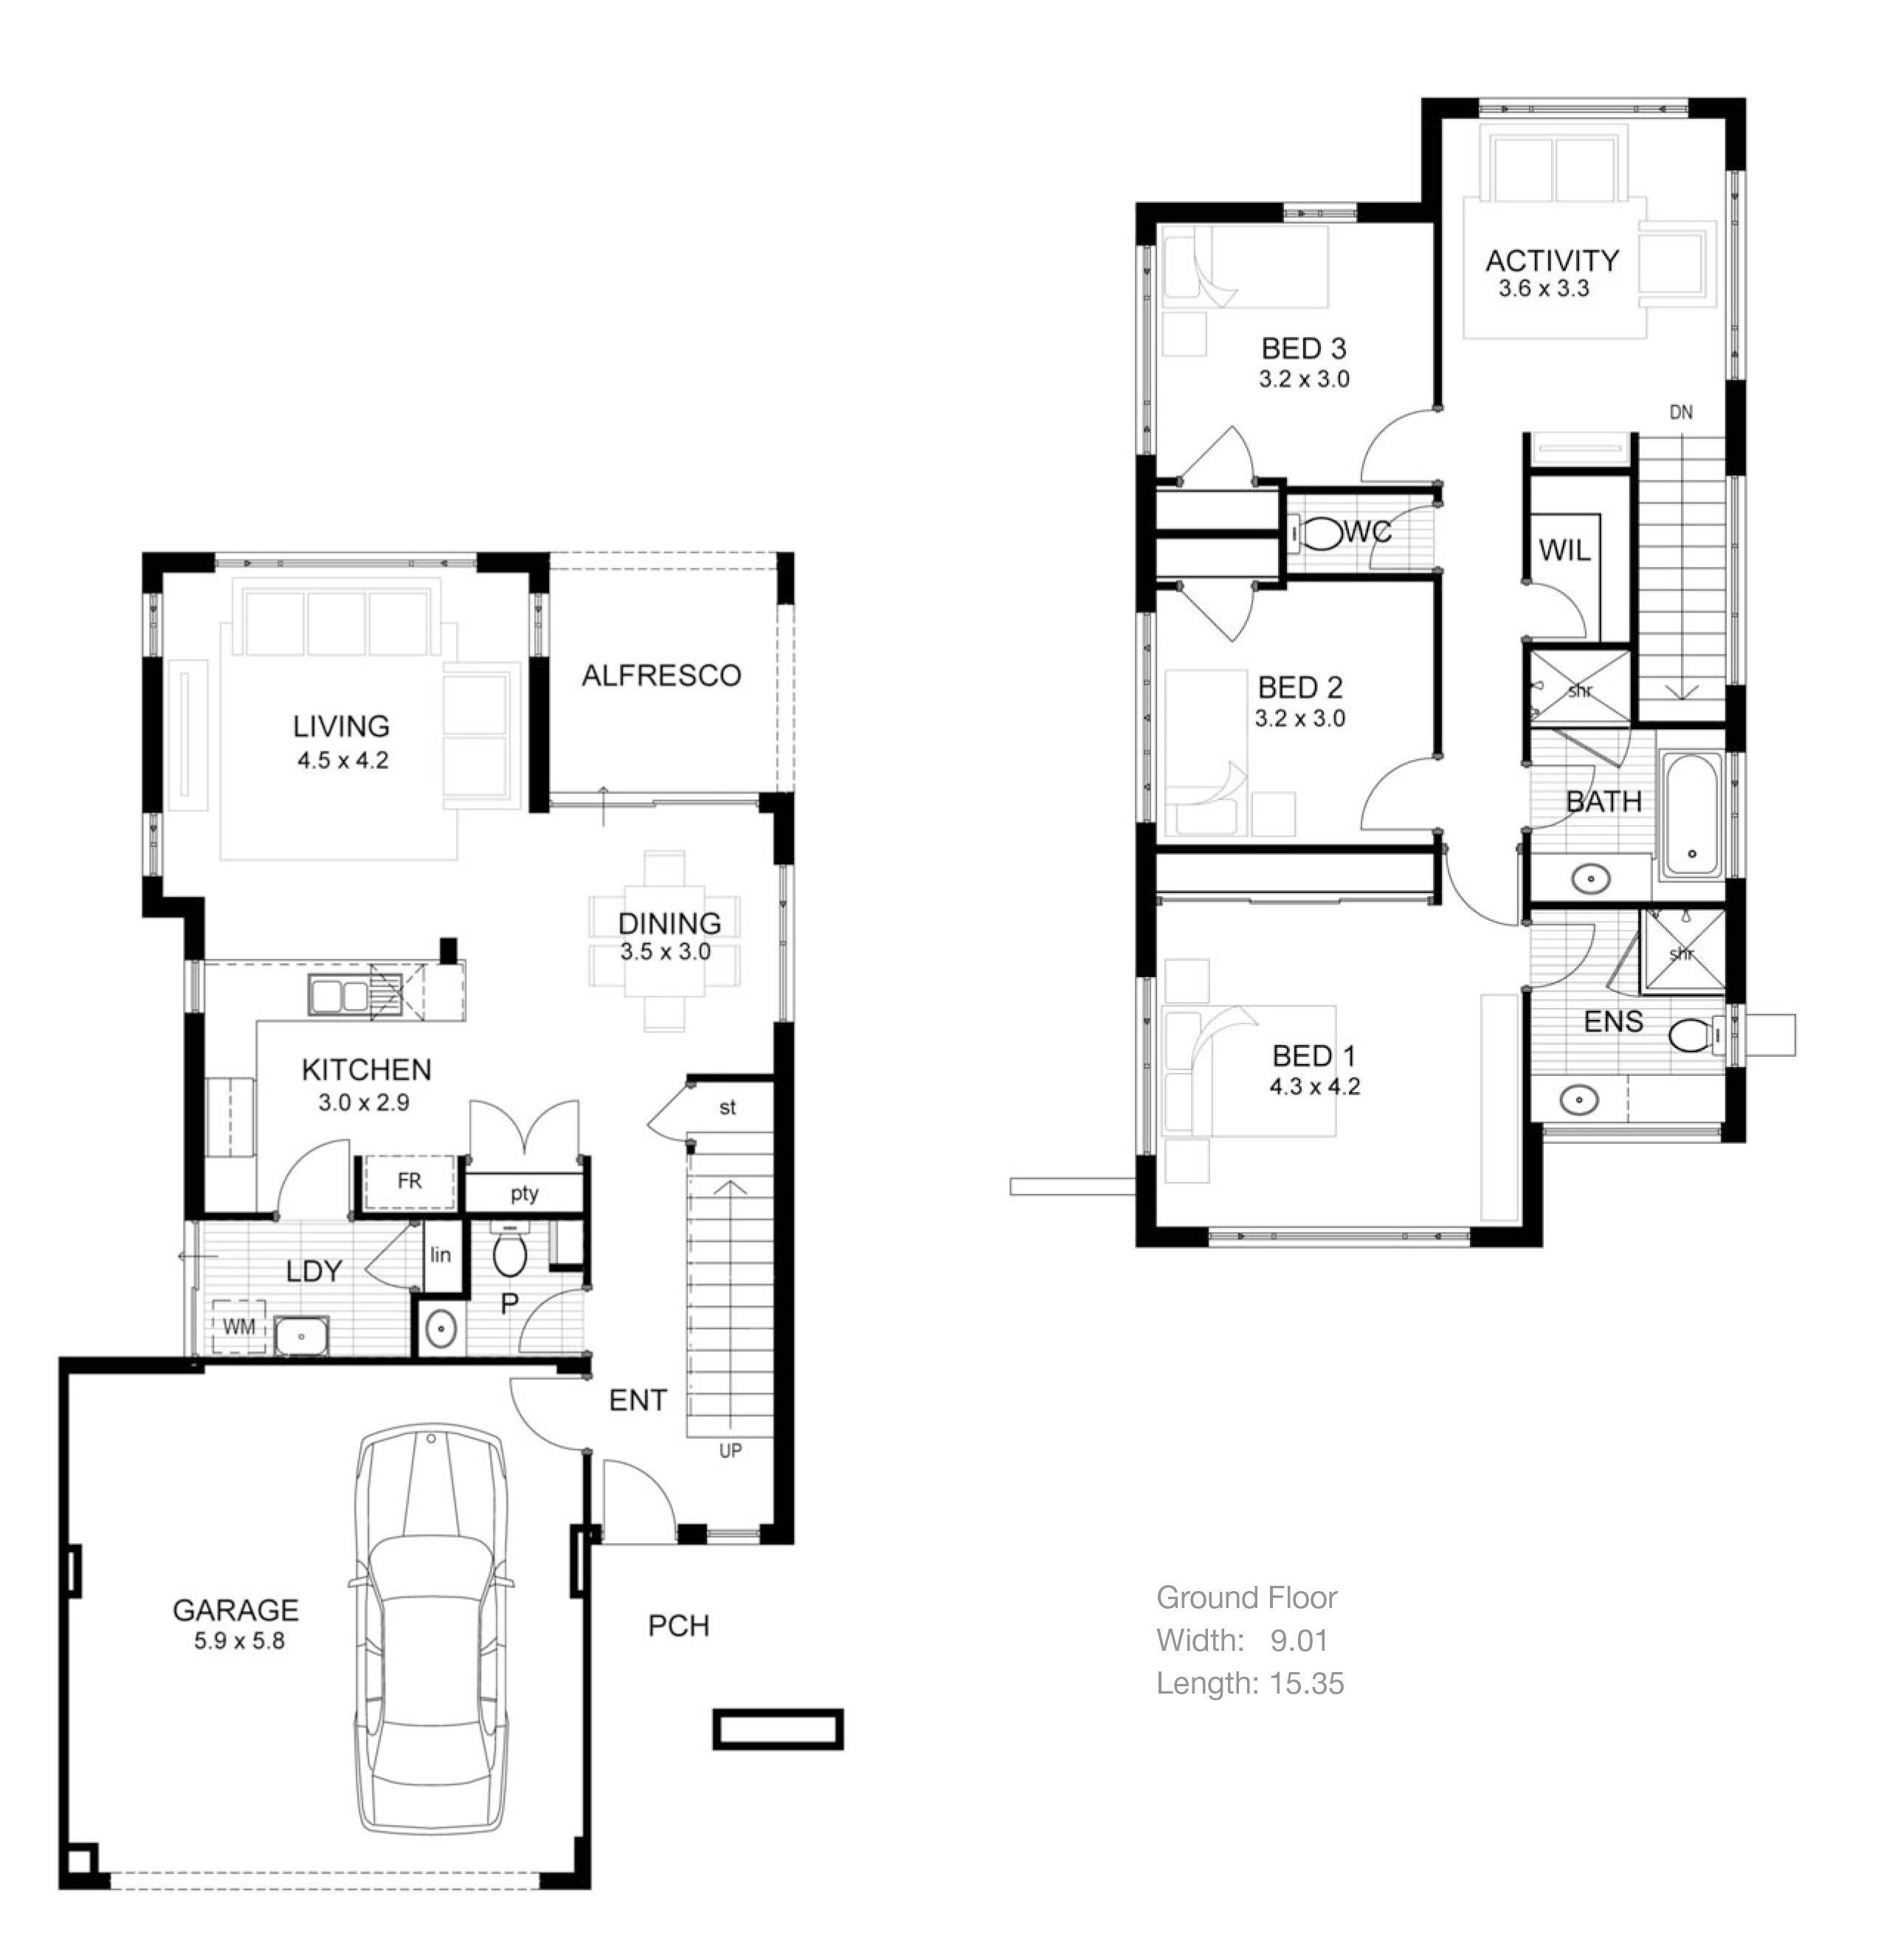window: (1216, 1225, 1460, 1262), (1481, 89, 1680, 128), (208, 551, 480, 570), (1138, 975, 1164, 1172), (1558, 1113, 1719, 1144), (1731, 185, 1755, 378), (1281, 175, 1358, 226), (1138, 247, 1155, 451), (1134, 607, 1152, 810), (131, 815, 175, 889), (777, 868, 798, 1015), (1727, 744, 1748, 864), (175, 954, 212, 1006), (137, 584, 165, 653), (532, 597, 550, 653)
